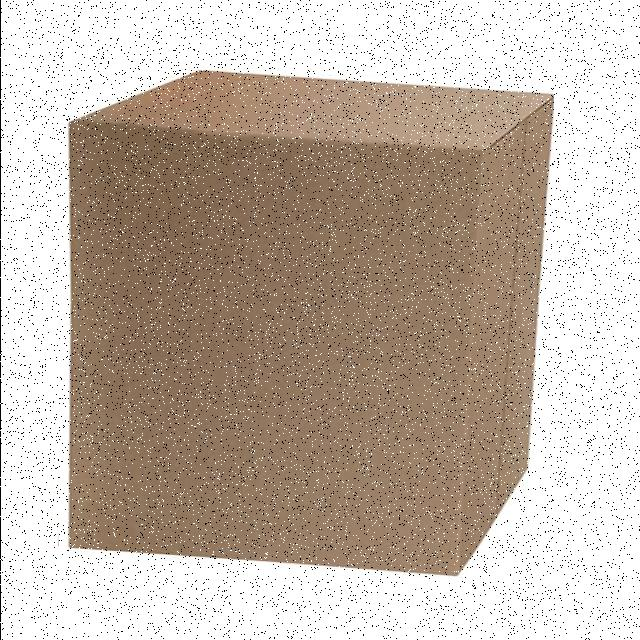normal: (58, 62, 553, 580)
